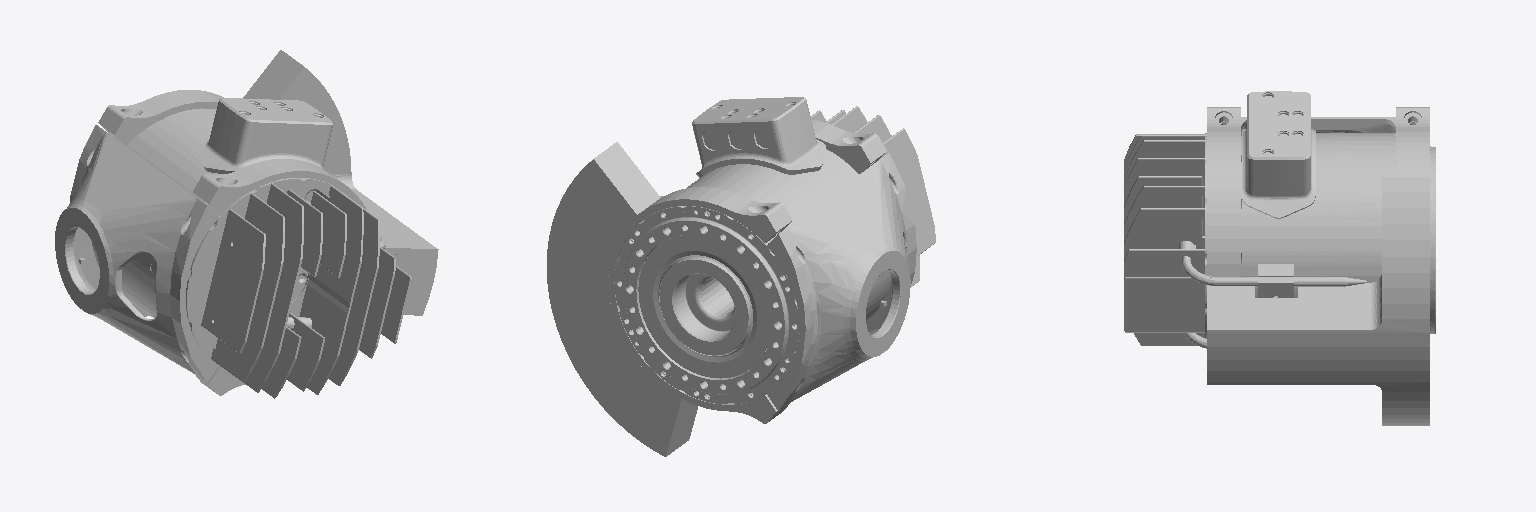
File: anymal_hip_l.obj
3 views of the same model, side by side, from view 1: azimuth 30°, elevation 25°; view 2: azimuth 150°, elevation 25°; view 3: azimuth 270°, elevation 25° (orthographic).
Visible parts, largest first — view 1: _42196_00-ASM_ANYmal_hip_left_EDI_001_042196_00-ASM_ANYmal_hip_l, _42196_00-ASM_ANYmal_hip_left_EDI_002_042196_00-ASM_ANYmal_hip_l, _42196_00-ASM_ANYmal_hip_left_EDI_005_042196_00-ASM_ANYmal_hip_l, _42196_00-ASM_ANYmal_hip_left_EDI_004_042196_00-ASM_ANYmal_hip_l, _42196_00-ASM_ANYmal_hip_left_EDI_001_001_042196_00-ASM_ANYmal_h, _42196_00-ASM_ANYmal_hip_left_EDI_003_042196_00-ASM_ANYmal_hip_l; view 2: _42196_00-ASM_ANYmal_hip_left_EDI_001_042196_00-ASM_ANYmal_hip_l, _42196_00-ASM_ANYmal_hip_left_EDI_002_042196_00-ASM_ANYmal_hip_l, _42196_00-ASM_ANYmal_hip_left_EDI_004_042196_00-ASM_ANYmal_hip_l, _42196_00-ASM_ANYmal_hip_left_EDI_005_042196_00-ASM_ANYmal_hip_l, _42196_00-ASM_ANYmal_hip_left_EDI_003_042196_00-ASM_ANYmal_hip_l, _42196_00-ASM_ANYmal_hip_left_EDI_001_001_042196_00-ASM_ANYmal_h; view 3: _42196_00-ASM_ANYmal_hip_left_EDI_001_042196_00-ASM_ANYmal_hip_l, _42196_00-ASM_ANYmal_hip_left_EDI_004_042196_00-ASM_ANYmal_hip_l, _42196_00-ASM_ANYmal_hip_left_EDI_005_042196_00-ASM_ANYmal_hip_l, _42196_00-ASM_ANYmal_hip_left_EDI_001_001_042196_00-ASM_ANYmal_h, _42196_00-ASM_ANYmal_hip_left_EDI_003_042196_00-ASM_ANYmal_hip_l, _42196_00-ASM_ANYmal_hip_left_EDI_006_042196_00-ASM_ANYmal_hip_l, _42196_00-ASM_ANYmal_hip_left_EDI_002_042196_00-ASM_ANYmal_hip_l, _42196_00-ASM_ANYmal_hip_left_EDI_007_042196_00-ASM_ANYmal_hip_l.
Boxes of the visible parts, x1,y1,x2,y2 form: _42196_00-ASM_ANYmal_hip_left_EDI_001_042196_00-ASM_ANYmal_hip_l: [92, 108, 411, 398]; _42196_00-ASM_ANYmal_hip_left_EDI_002_042196_00-ASM_ANYmal_hip_l: [55, 125, 218, 382]; _42196_00-ASM_ANYmal_hip_left_EDI_005_042196_00-ASM_ANYmal_hip_l: [199, 98, 332, 173]; _42196_00-ASM_ANYmal_hip_left_EDI_004_042196_00-ASM_ANYmal_hip_l: [243, 50, 438, 315]; _42196_00-ASM_ANYmal_hip_left_EDI_001_001_042196_00-ASM_ANYmal_h: [193, 159, 366, 395]; _42196_00-ASM_ANYmal_hip_left_EDI_003_042196_00-ASM_ANYmal_hip_l: [98, 90, 223, 316]; _42196_00-ASM_ANYmal_hip_left_EDI_001_042196_00-ASM_ANYmal_hip_l: [615, 106, 935, 404]; _42196_00-ASM_ANYmal_hip_left_EDI_002_042196_00-ASM_ANYmal_hip_l: [767, 153, 916, 410]; _42196_00-ASM_ANYmal_hip_left_EDI_004_042196_00-ASM_ANYmal_hip_l: [547, 142, 697, 456]; _42196_00-ASM_ANYmal_hip_left_EDI_005_042196_00-ASM_ANYmal_hip_l: [692, 97, 825, 177]; _42196_00-ASM_ANYmal_hip_left_EDI_003_042196_00-ASM_ANYmal_hip_l: [608, 187, 792, 423]; _42196_00-ASM_ANYmal_hip_left_EDI_001_001_042196_00-ASM_ANYmal_h: [811, 119, 886, 173]; _42196_00-ASM_ANYmal_hip_left_EDI_001_042196_00-ASM_ANYmal_hip_l: [1124, 133, 1435, 345]; _42196_00-ASM_ANYmal_hip_left_EDI_004_042196_00-ASM_ANYmal_hip_l: [1207, 177, 1429, 425]; _42196_00-ASM_ANYmal_hip_left_EDI_005_042196_00-ASM_ANYmal_hip_l: [1242, 91, 1315, 218]; _42196_00-ASM_ANYmal_hip_left_EDI_001_001_042196_00-ASM_ANYmal_h: [1207, 107, 1240, 276]; _42196_00-ASM_ANYmal_hip_left_EDI_003_042196_00-ASM_ANYmal_hip_l: [1396, 107, 1429, 176]; _42196_00-ASM_ANYmal_hip_left_EDI_006_042196_00-ASM_ANYmal_hip_l: [1182, 256, 1366, 348]; _42196_00-ASM_ANYmal_hip_left_EDI_002_042196_00-ASM_ANYmal_hip_l: [1220, 117, 1416, 132]; _42196_00-ASM_ANYmal_hip_left_EDI_007_042196_00-ASM_ANYmal_hip_l: [1258, 264, 1293, 297].
Size of the model in its own units: 142 by 142 by 131.